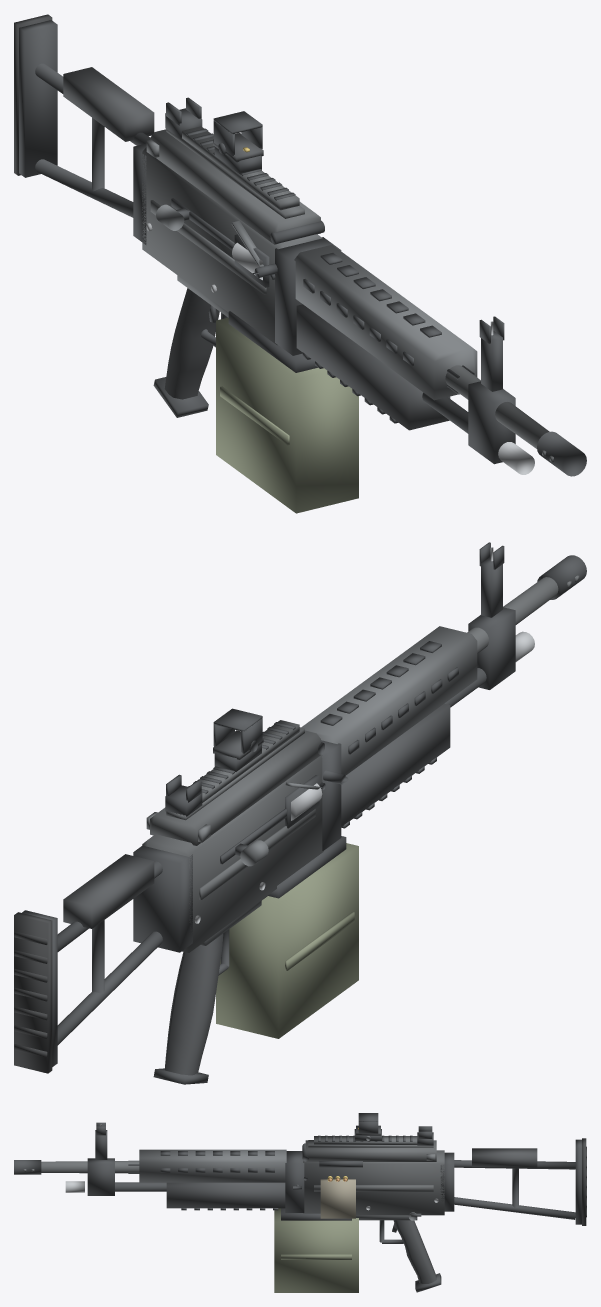
Rendered from lmg.glb.
3 views of the same model, one above another, from view 1: azimuth 30°, elevation 25°; view 2: azimuth 150°, elevation 25°; view 3: azimuth 270°, elevation 25° (orthographic). The views are drawn at different scales.
Parts seen in each view (by area): view 1: body, mag; view 2: body, mag; view 3: body, mag.
Part boxes in pixels (bbox=[...]): body: bbox=[14, 14, 586, 476]; mag: bbox=[216, 317, 358, 513]; body: bbox=[14, 542, 586, 1084]; mag: bbox=[216, 843, 358, 1038]; body: bbox=[14, 1113, 586, 1292]; mag: bbox=[274, 1176, 358, 1292].
Bounding box in the file's own units: 0.095 × 0.3477 × 1.05.
